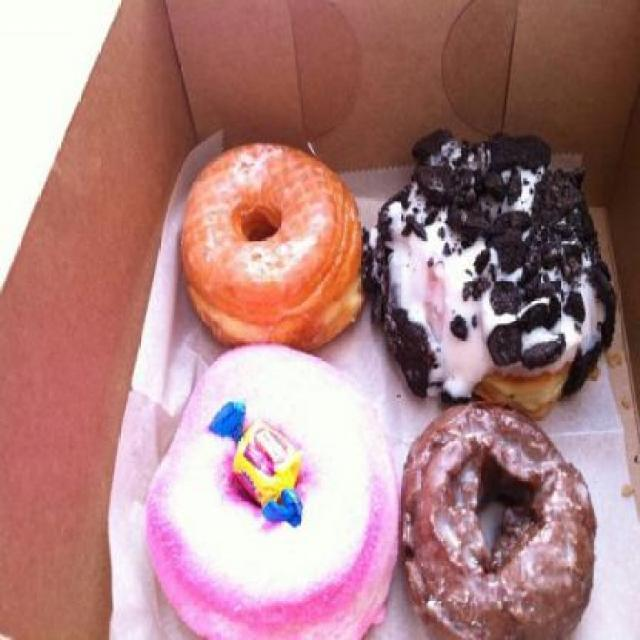Donuts: (134, 119, 614, 638)
